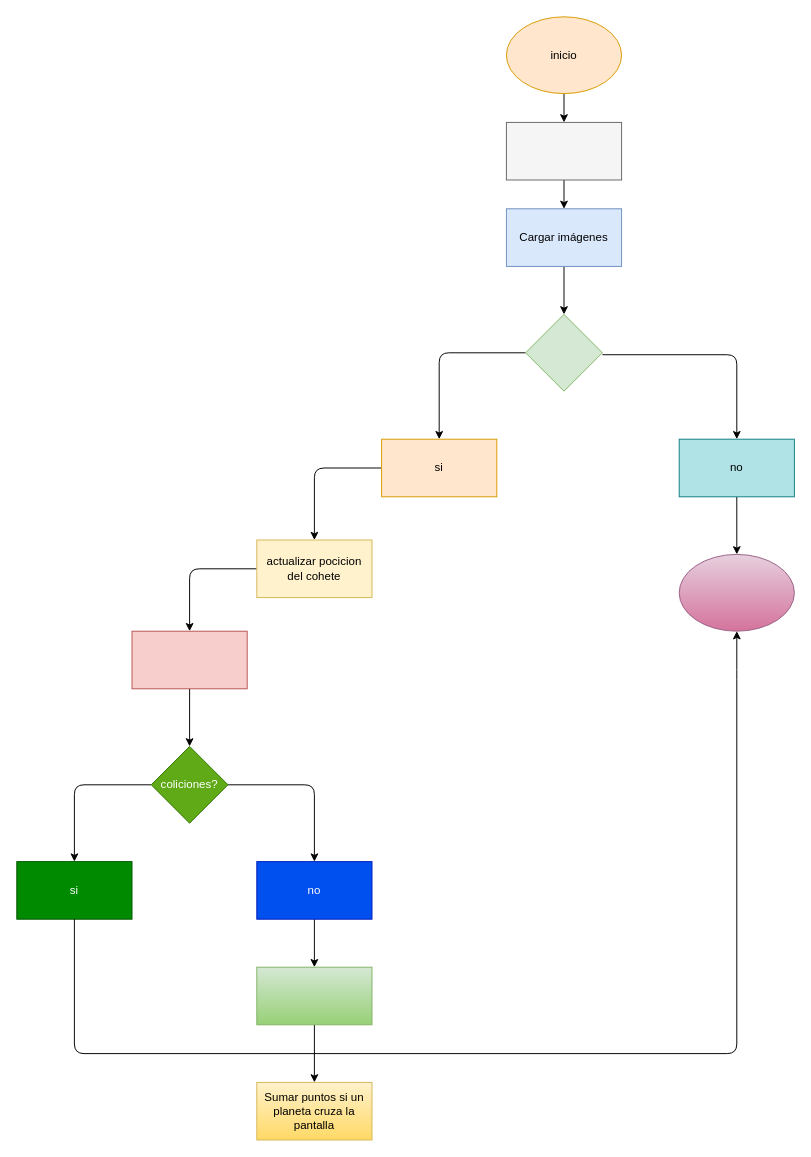
The diagram is 811 pixels wide and 1157 high, and some of its shapes have lost their labels. The shapes that lost their labels are listed below. From the top down, each one's centre as x and y in pixels, then its label:
(563,150): Inicializa Pygame
(563,352): ¿se inicio el juego ?
(736,592): fin
(189,659): mover planetas hacia abajo
(314,995): continua
